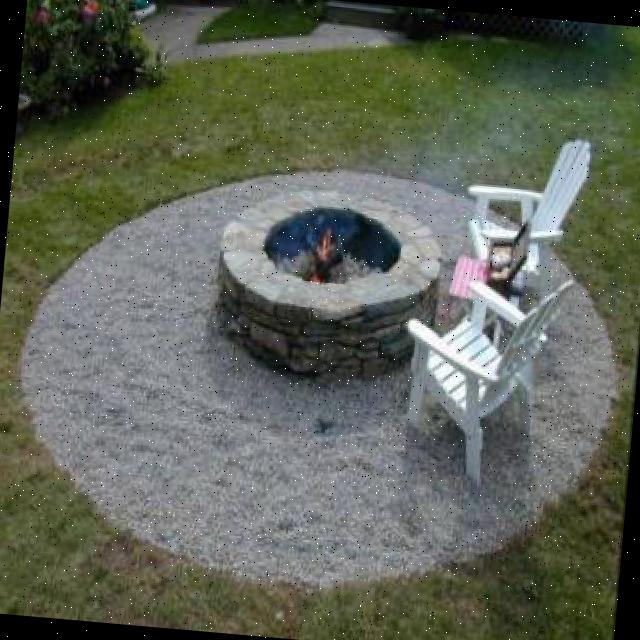fire: (302, 220, 349, 284)
